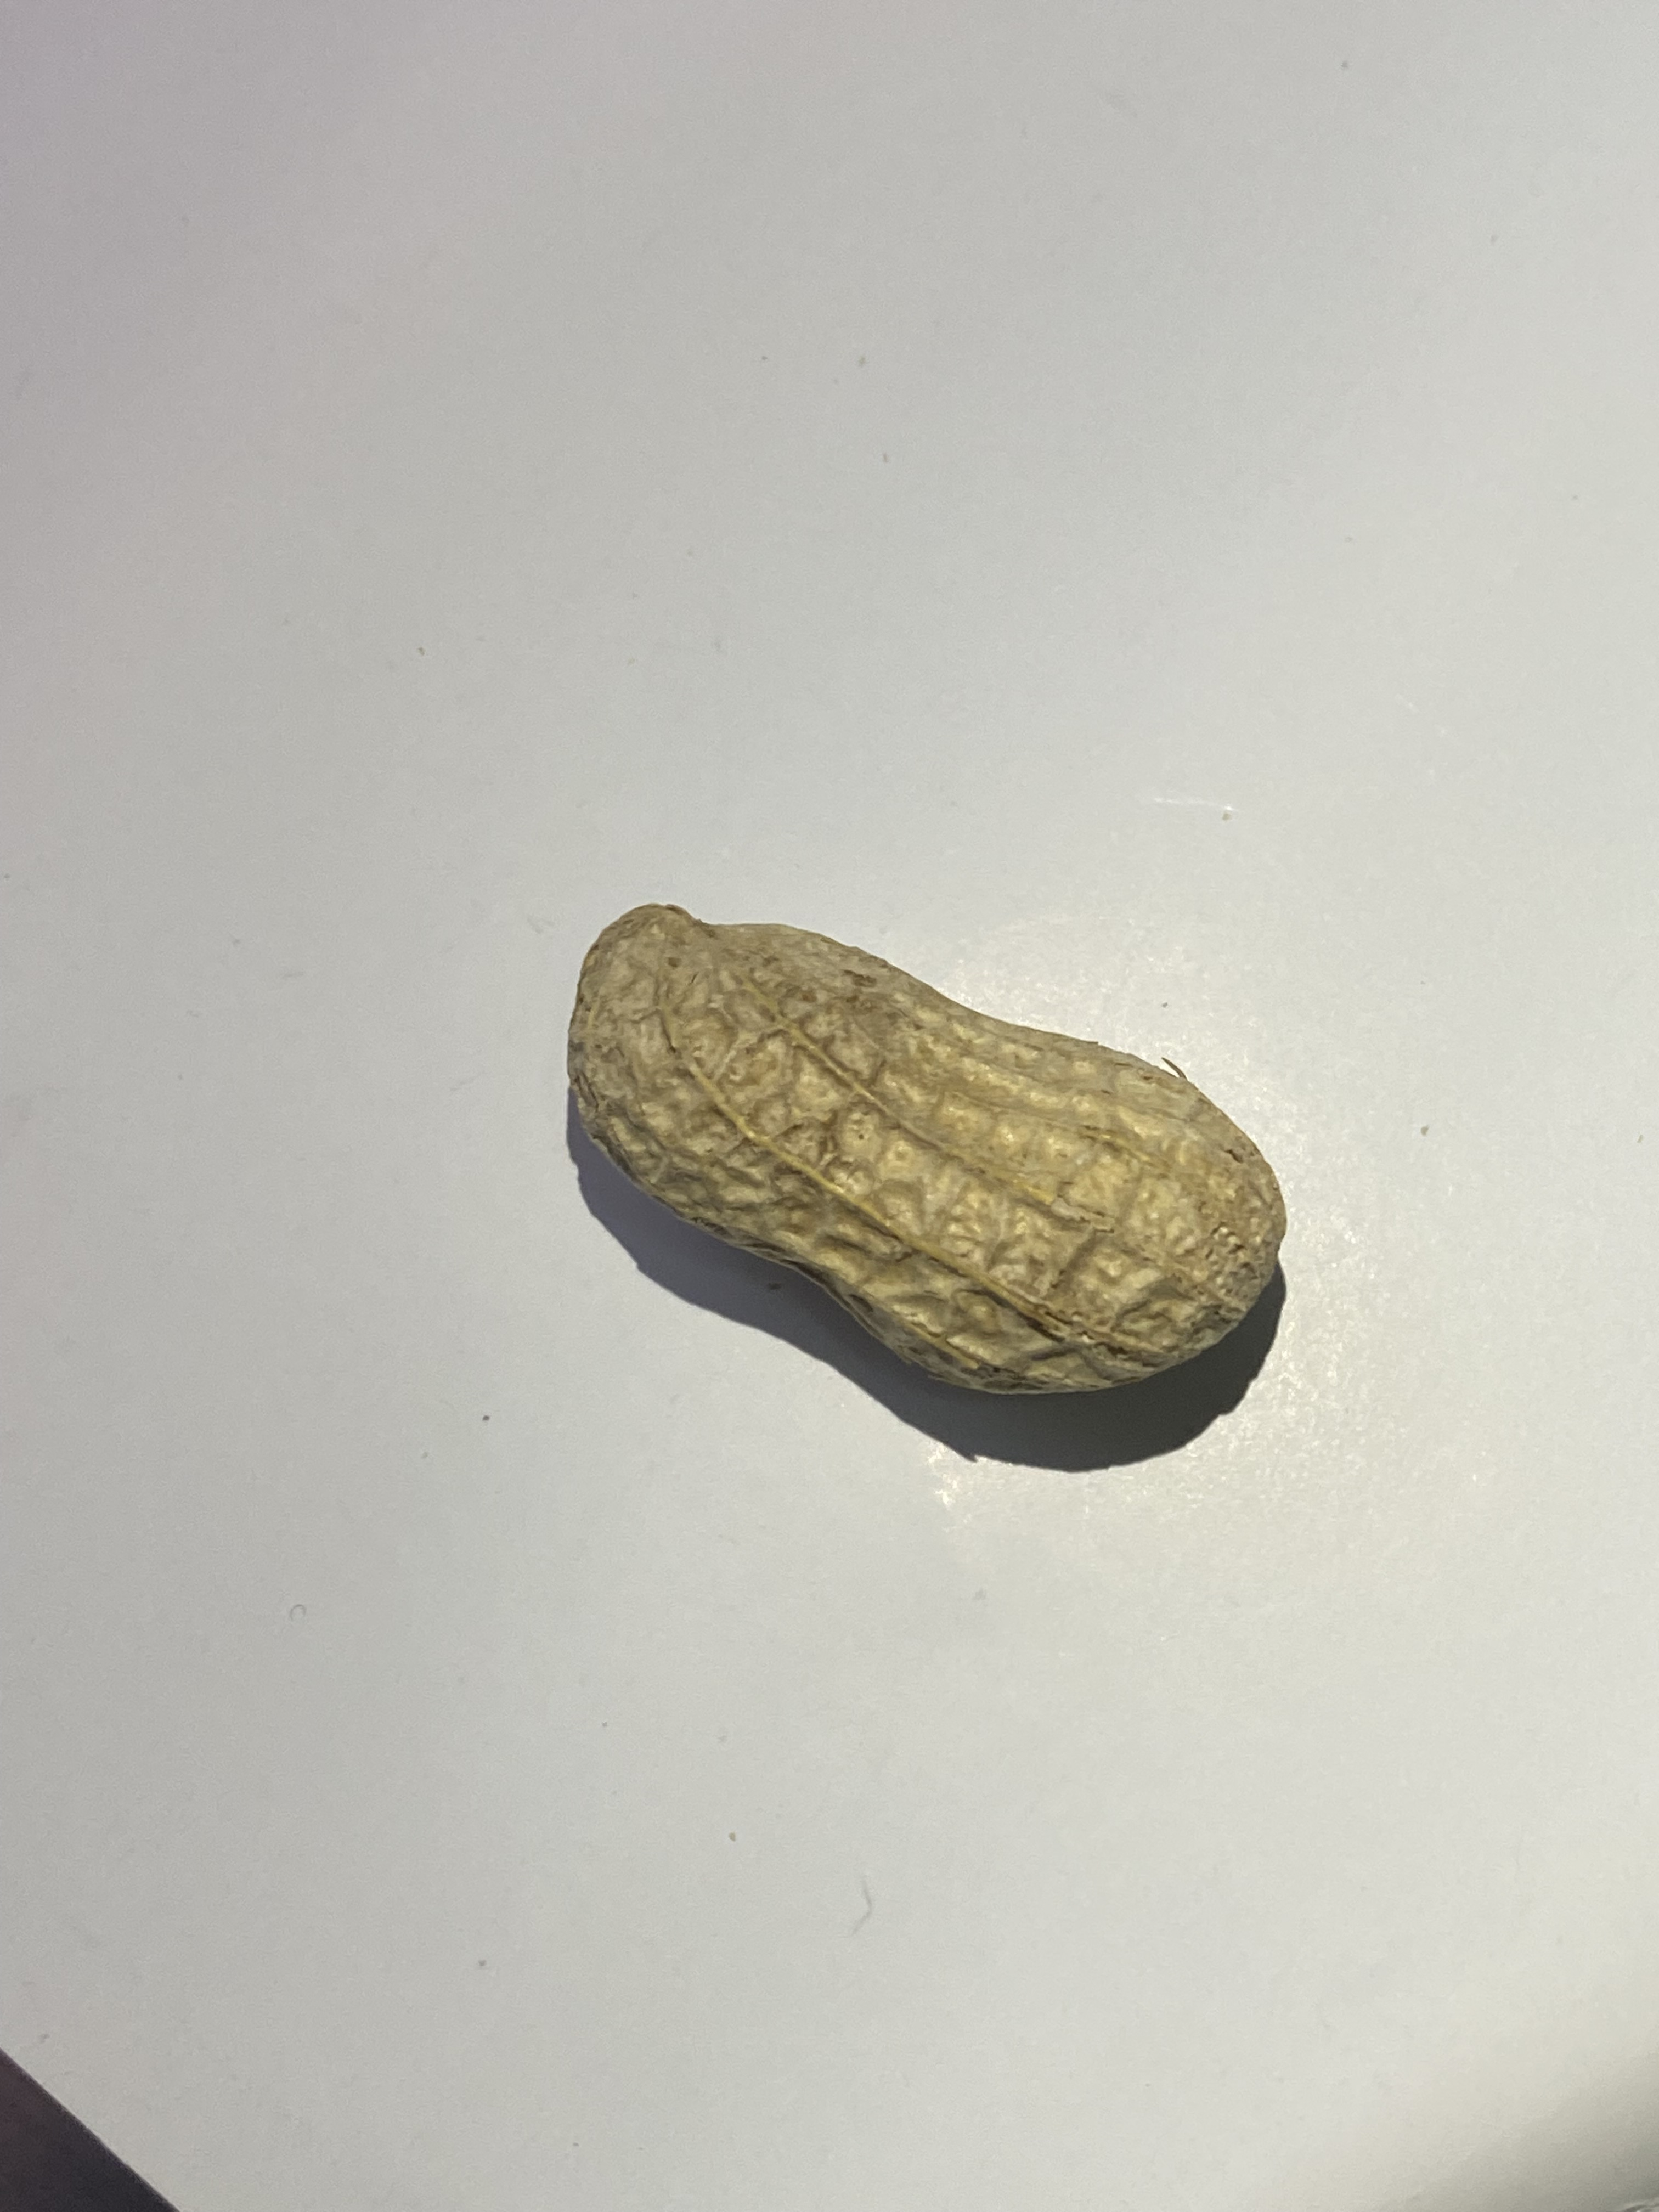kacang2: (558, 894, 1314, 1425)
